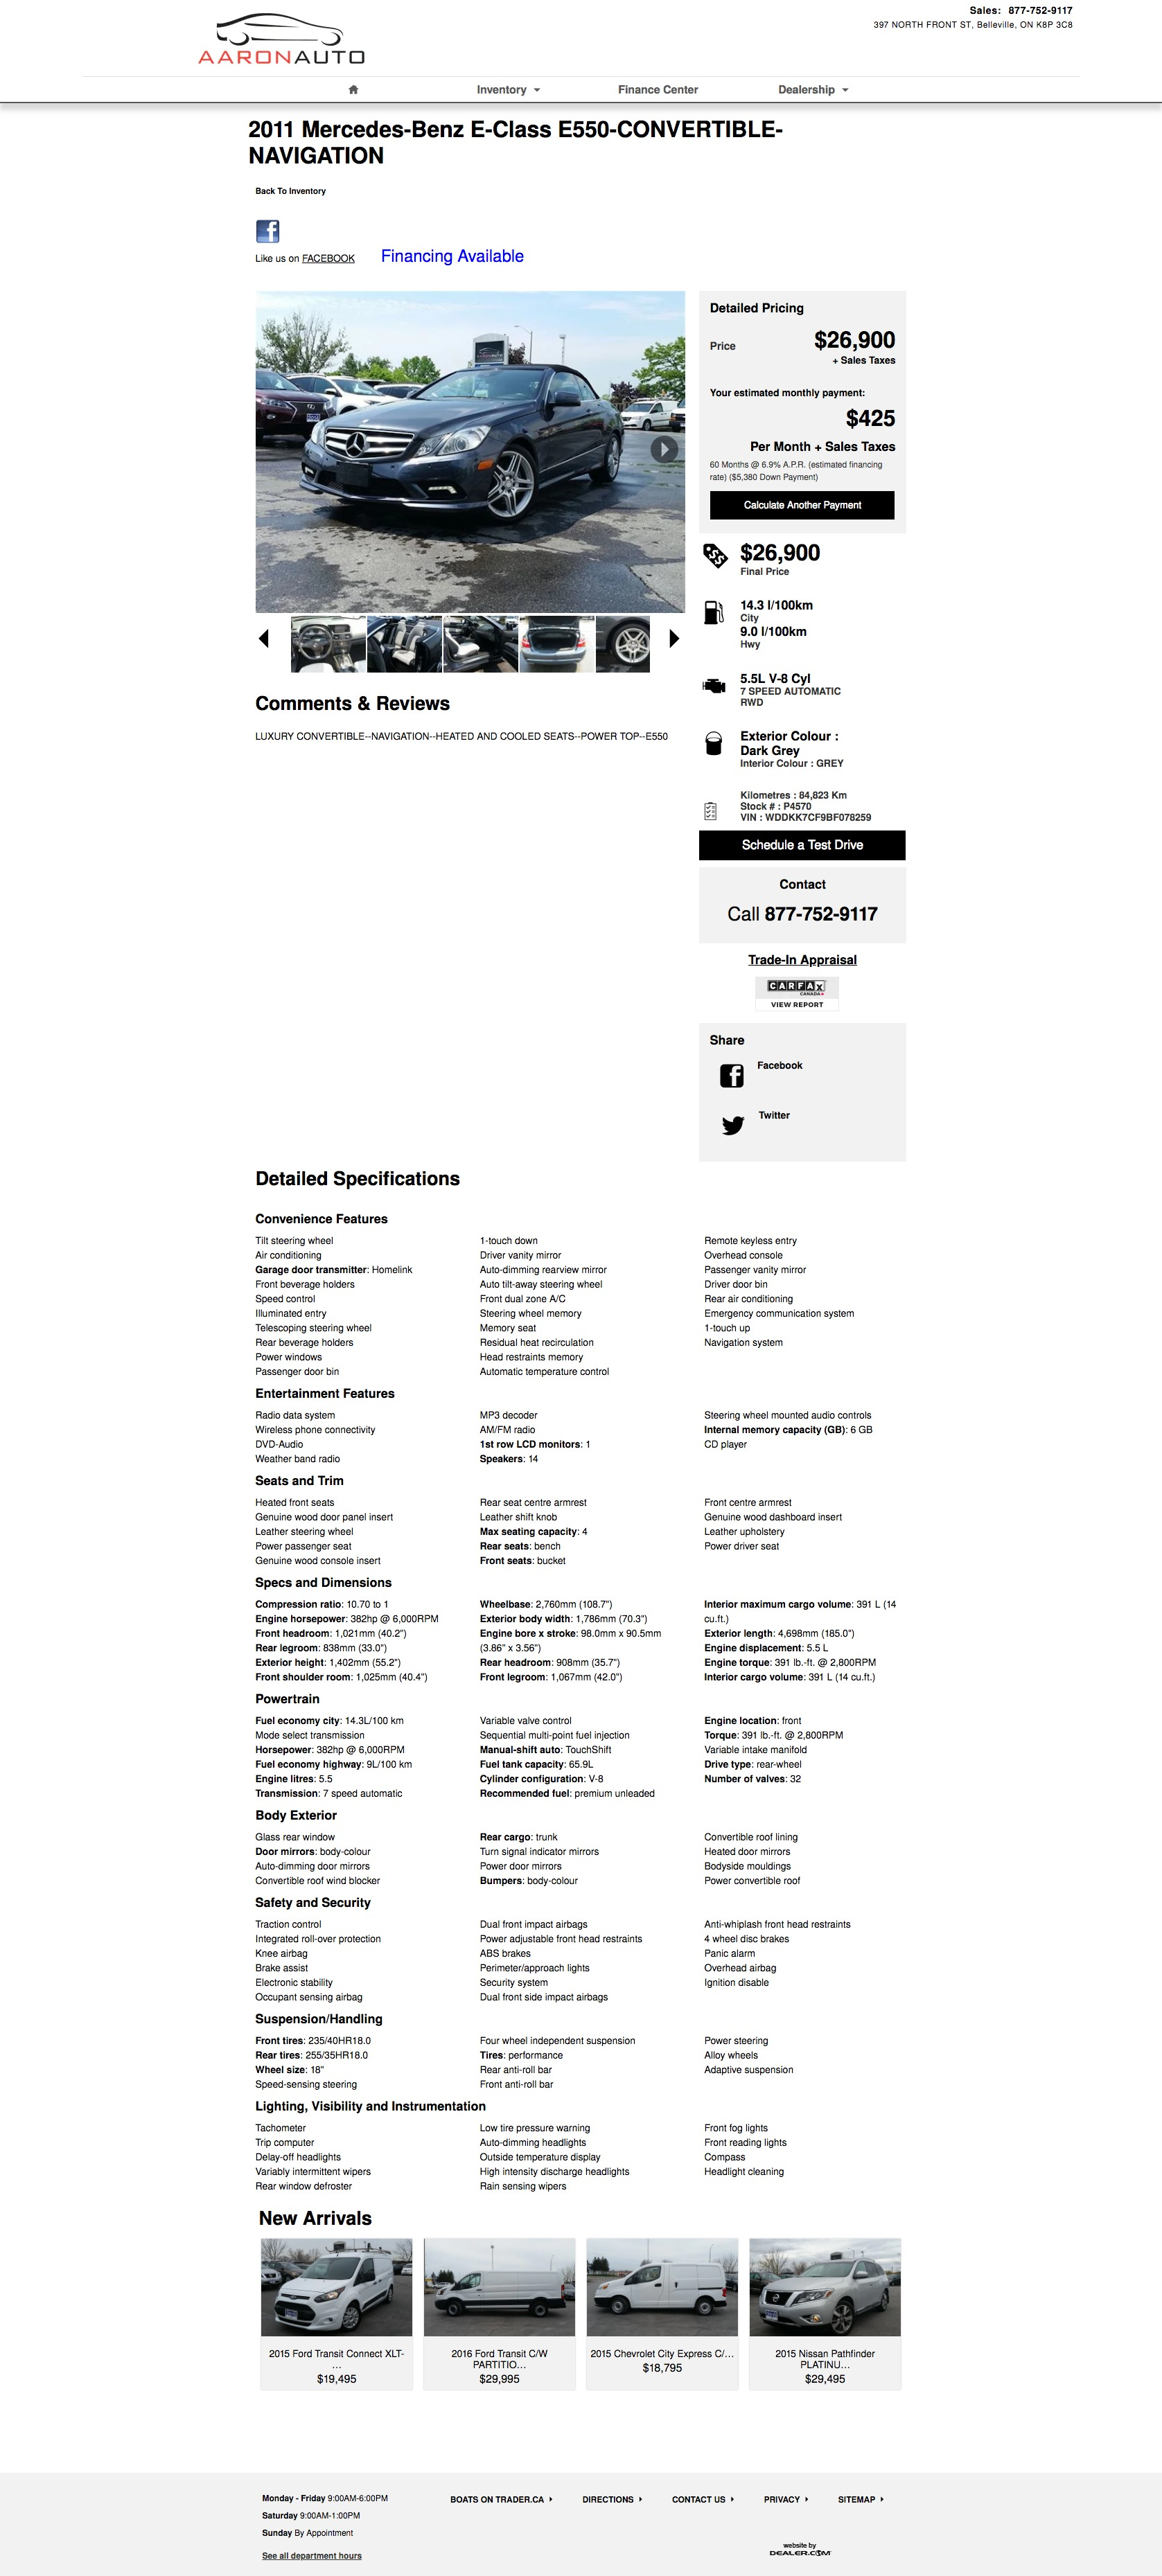car: (669, 628, 680, 649)
